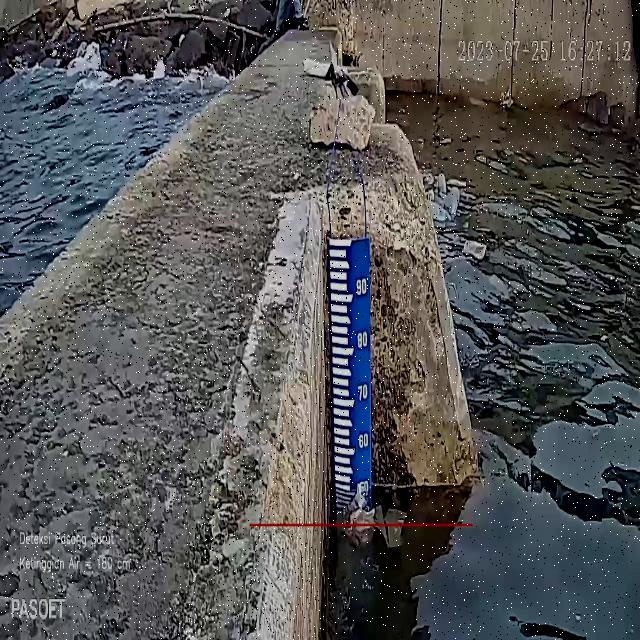60: (357, 432, 370, 448)
70: (358, 382, 368, 402)
80: (357, 330, 368, 351)
90: (356, 278, 368, 296)
staff: (328, 237, 372, 495)
